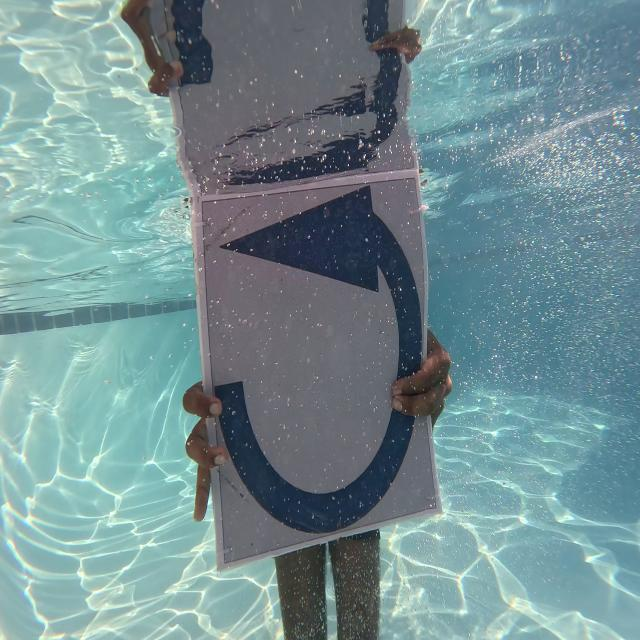blue_side: (185, 188, 460, 566)
